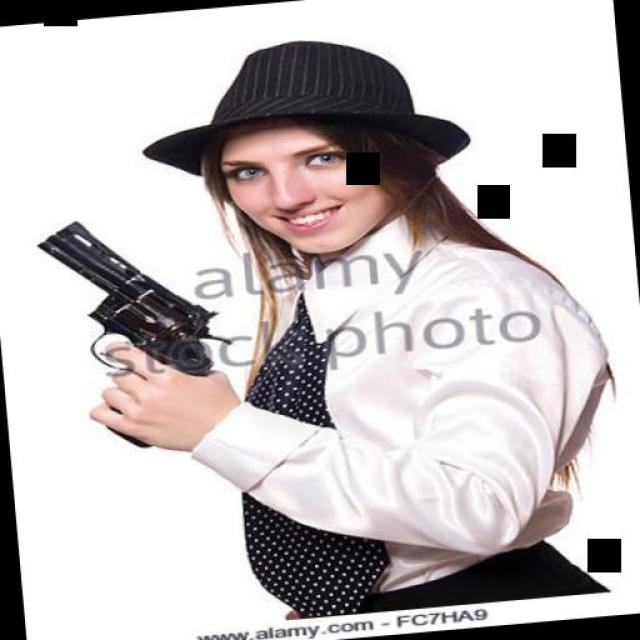gun: (25, 207, 246, 458)
